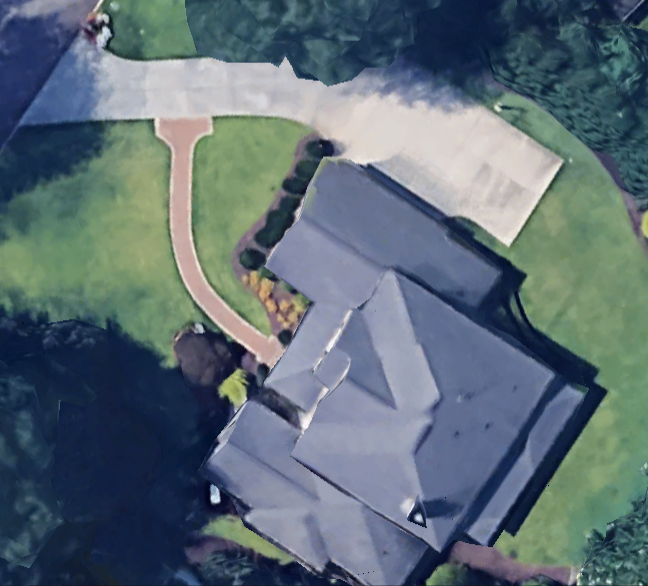driveway: (20, 0, 576, 290)
